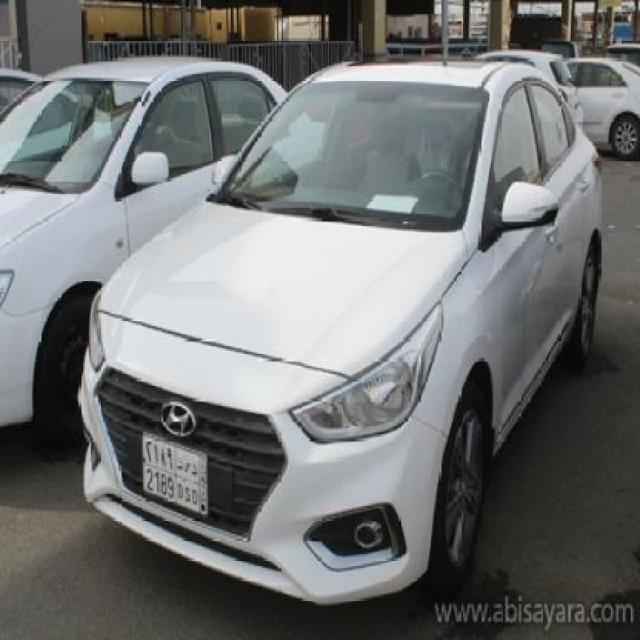license_plate: (142, 428, 210, 518)
